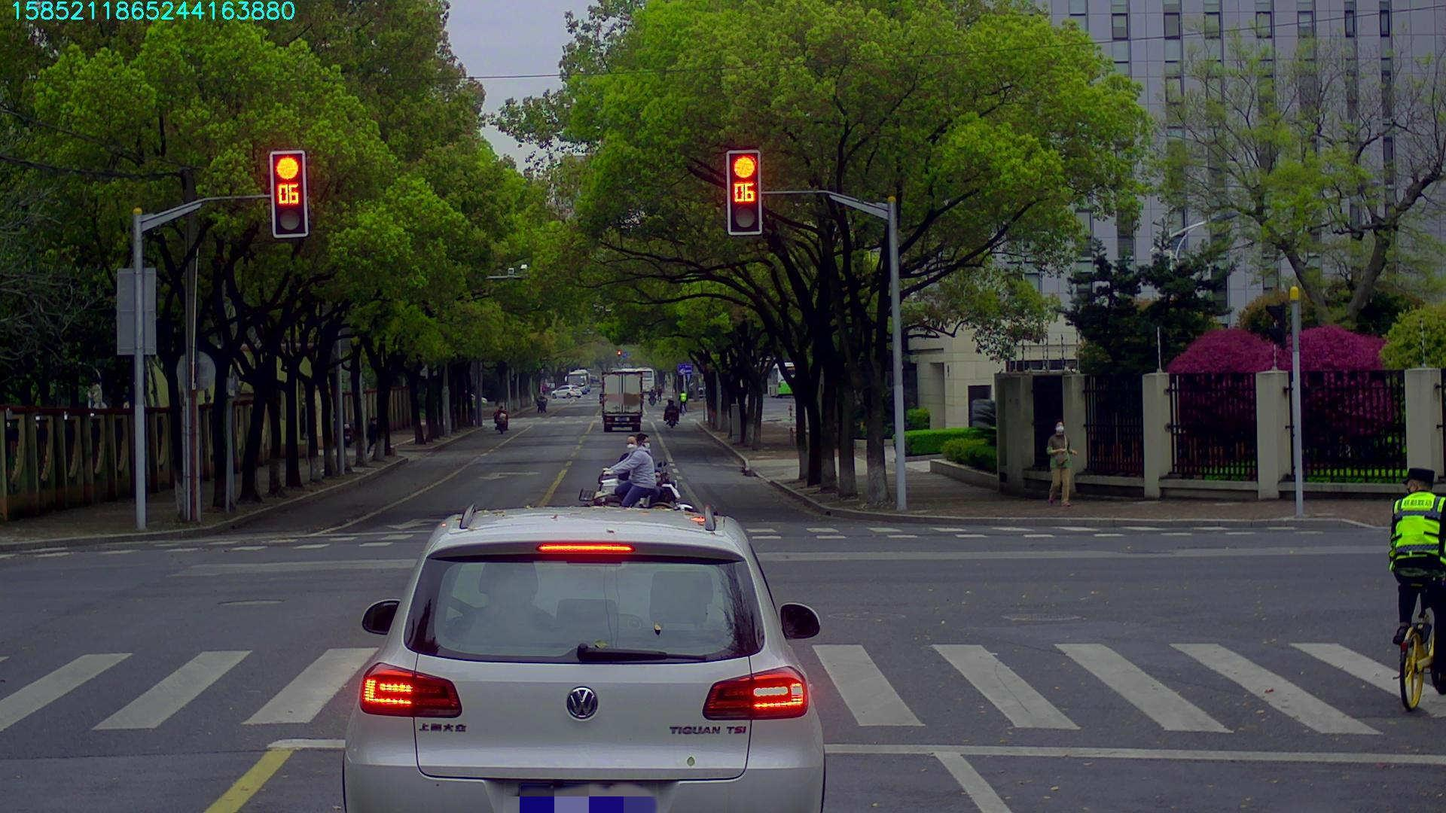red: (270, 151, 307, 235), (727, 151, 760, 233)
